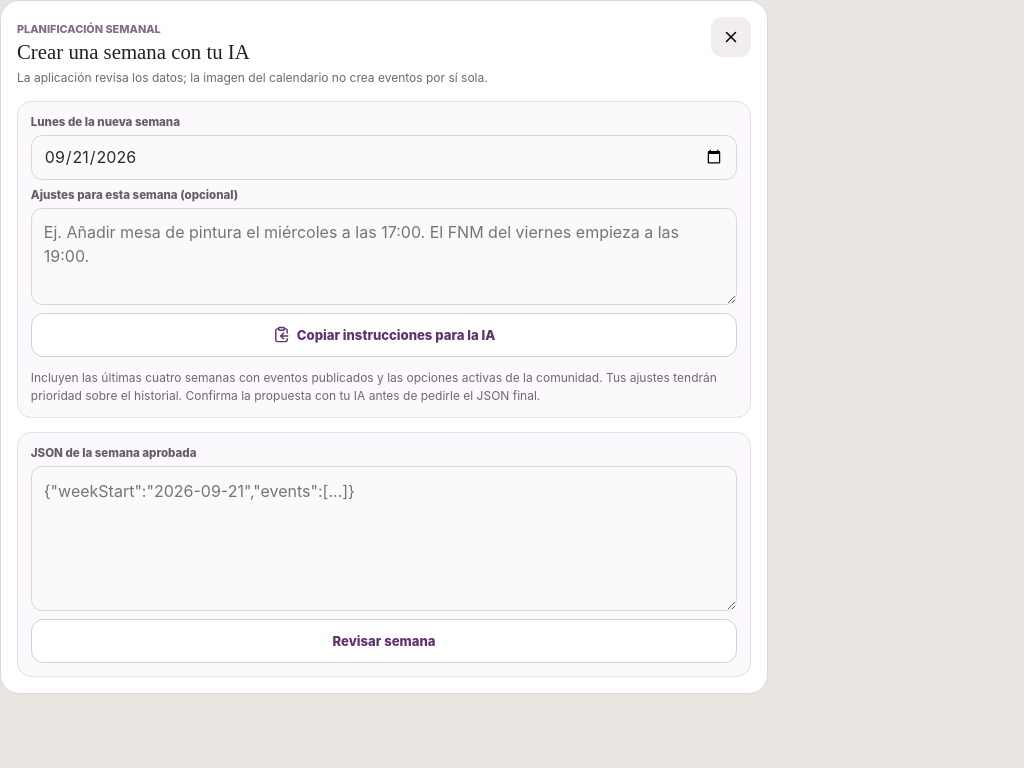
Test case: WeeklyEventImportPanel › copies the selected week and the manager adjustments for the AI
The image size is (1024, 768).
Replace the text in the text box labelled "Ajustes para esta semana (opcional)" with "Añadir mesa de pintura el miércoles a las 17:00." at (384, 256), box top-left (31, 208), bottom-right (737, 304)
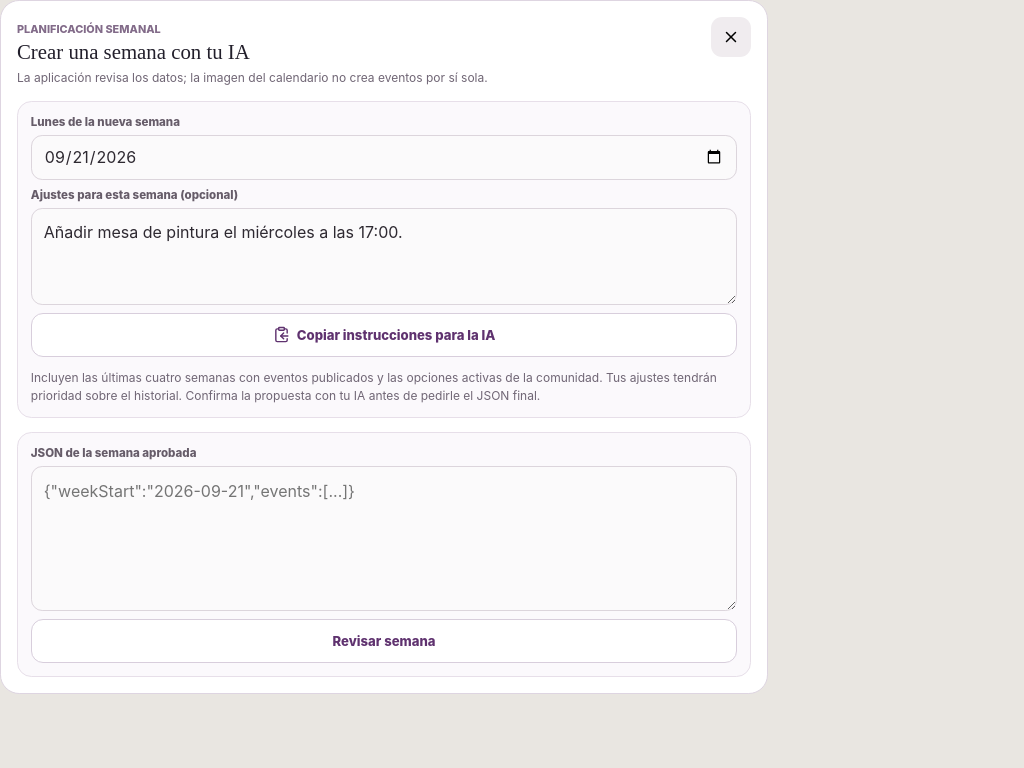
Click the button "Copiar instrucciones para la IA" at (384, 334), box top-left (31, 312), bottom-right (737, 356)
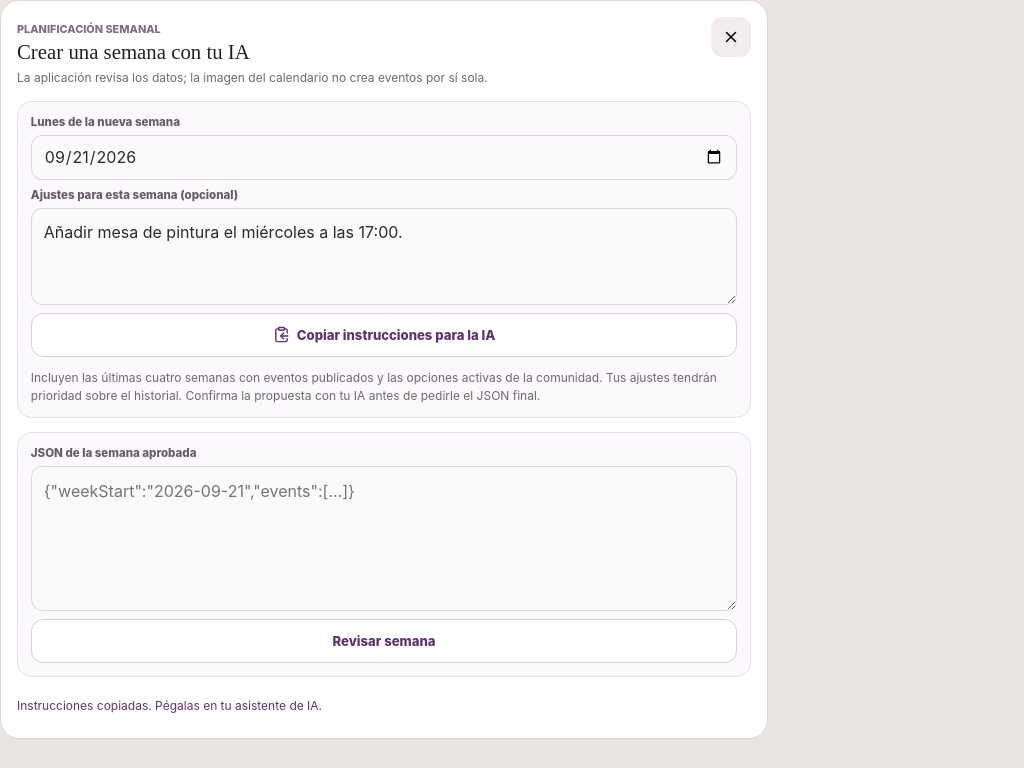
Result: the text "Instrucciones copiadas. Pégalas en tu asistente de IA." is shown at top-left (17, 698), bottom-right (322, 713)
